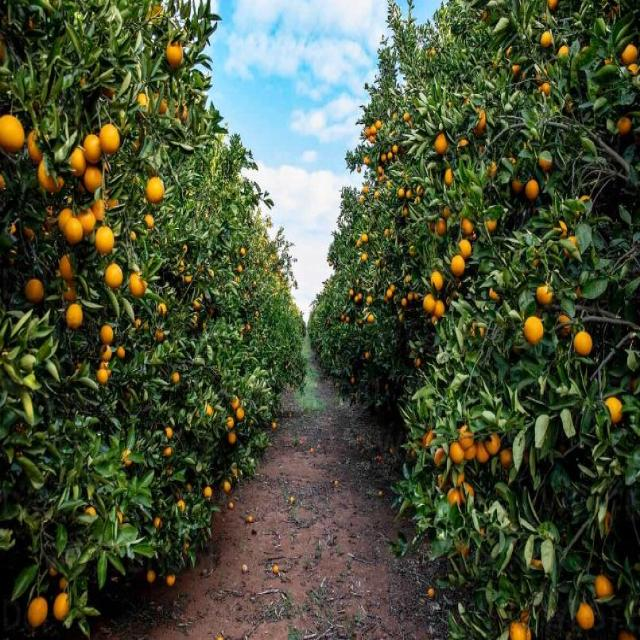row: (130, 377, 491, 640)
